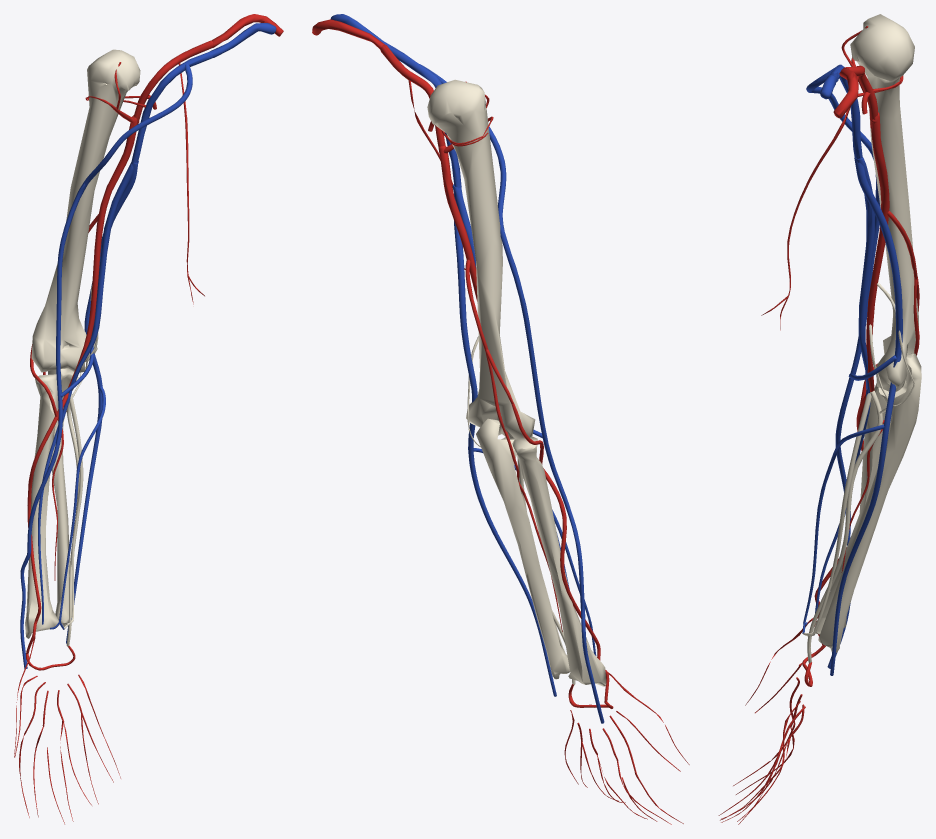
The model's file is gefarm.glb.
The picture shows the model from 3 angles, left to right: view 1: azimuth 30°, elevation 25°; view 2: azimuth 150°, elevation 25°; view 3: azimuth 270°, elevation 25°; orthographic projection. The views are drawn at different scales.
Parts seen in each view (by area): view 1: Right humerus, Right radius, Right cephalic vein, Right ulna, Right brachial artery, Right basilic vein, Right medial brachial vein, Right axillary vein, Right radial artery, Right axillary artery, Right median antebrachial vein, Right ulnar vein (+5 smaller); view 2: Right humerus, Right ulna, Right radius, Right cephalic vein, Right basilic vein, Right brachial artery, Right radial artery, Right axillary vein, Right axillary artery, Right subclavian artery; view 3: Right humerus, Right ulna, Right basilic vein, Right brachial artery, Right cephalic vein, Right radius, Right medial brachial vein, Right ulnar artery, Right ulnar vein, Right median antebrachial vein, Right axillary vein, Right lateral thoracic artery (+3 smaller).
Part boxes in pixels (box(x1,y1,x2,y2)): Right humerus: box(31, 49, 140, 372); Right radius: box(25, 374, 59, 638); Right cephalic vein: box(20, 63, 192, 668); Right ulna: box(48, 368, 78, 626); Right brachial artery: box(68, 115, 137, 387); Right basilic vein: box(66, 162, 137, 643); Right medial brachial vein: box(69, 161, 138, 393); Right axillary vein: box(131, 49, 216, 164); Right radial artery: box(26, 393, 68, 653); Right axillary artery: box(134, 40, 213, 124); Right median antebrachial vein: box(50, 386, 105, 629); Right ulnar vein: box(63, 393, 83, 629); Right humerus: box(427, 79, 535, 439); Right ulna: box(476, 418, 569, 679); Right radius: box(512, 436, 606, 686); Right cephalic vein: box(419, 64, 604, 723); Right basilic vein: box(454, 185, 556, 696); Right brachial artery: box(438, 145, 477, 301); Right radial artery: box(543, 468, 609, 701); Right axillary vein: box(390, 46, 461, 188); Right axillary artery: box(380, 45, 445, 146); Right subclavian artery: box(312, 19, 385, 49); Right humerus: box(850, 14, 918, 391); Right ulna: box(818, 353, 921, 652); Right basilic vein: box(830, 157, 902, 675); Right brachial artery: box(866, 112, 889, 391); Right cephalic vein: box(806, 66, 880, 668); Right radius: box(813, 383, 886, 634); Right medial brachial vein: box(855, 157, 874, 392); Right ulnar artery: box(807, 390, 882, 663); Right ulnar vein: box(803, 392, 871, 636); Right median antebrachial vein: box(802, 424, 884, 633); Right axillary vein: box(830, 64, 862, 158); Right lateral thoracic artery: box(761, 76, 858, 330).
Size of the model in its own units: 0.3147 by 0.6975 by 0.1451.
